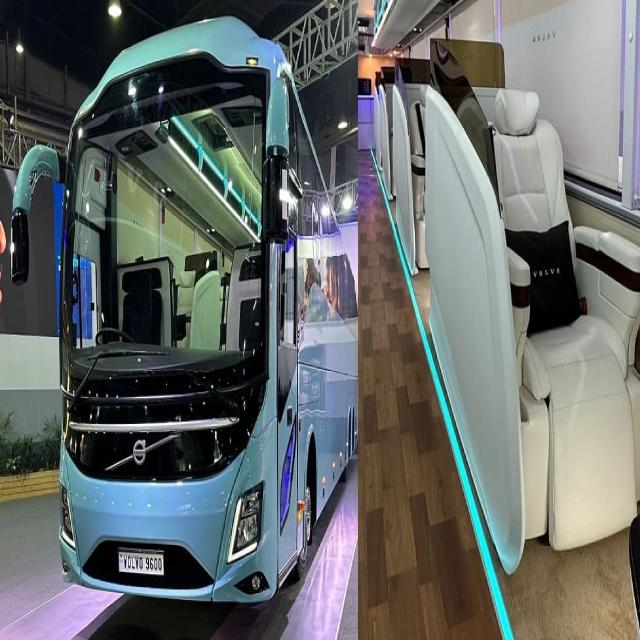bus: (10, 18, 358, 603)
